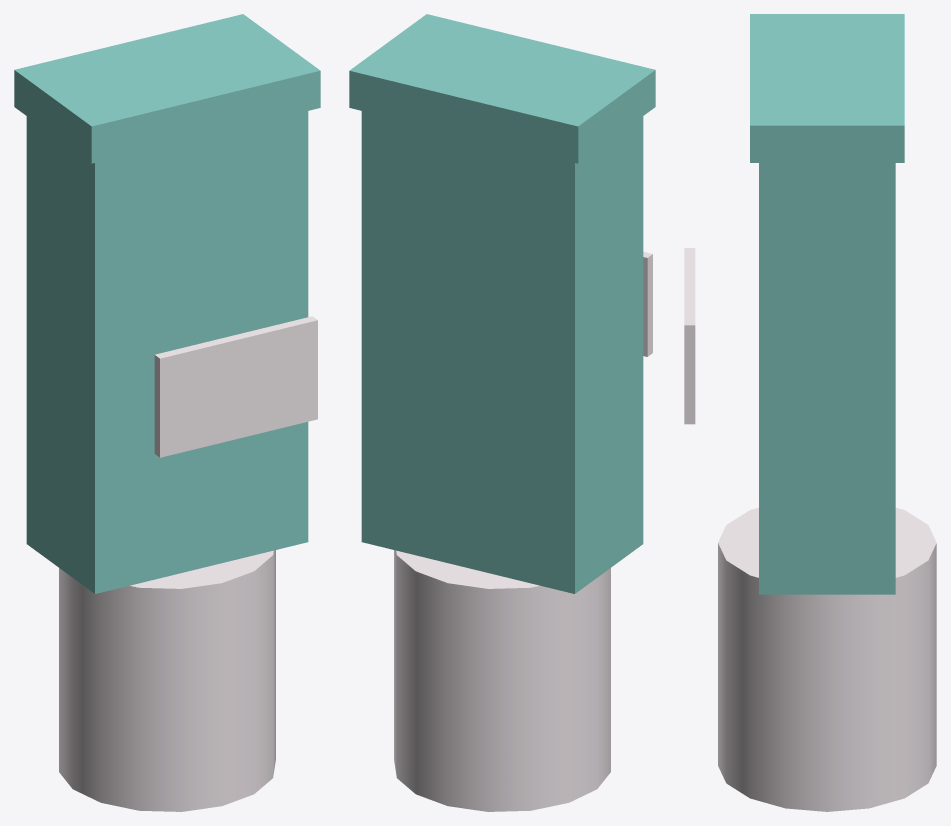
The model's file is TRD-04-03.glb.
The picture shows the model from 3 angles, left to right: view 1: azimuth 30°, elevation 25°; view 2: azimuth 150°, elevation 25°; view 3: azimuth 270°, elevation 25°; orthographic projection.
Parts seen in each view (by area): view 1: TRD-04-03; view 2: TRD-04-03; view 3: TRD-04-03.
Part boxes in pixels (<box>): TRD-04-03: <box>14,14,320,811</box>; TRD-04-03: <box>349,14,655,811</box>; TRD-04-03: <box>684,14,936,811</box>.
Bounding box in the file's own units: 0.29 × 0.8425 × 0.277.
